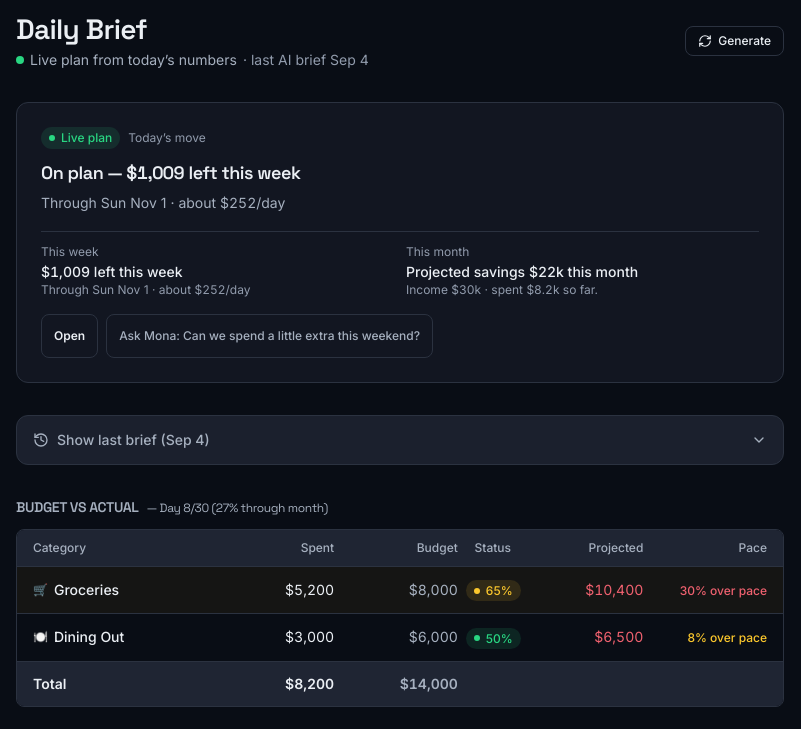
Scenario: Daily Brief › keeps the old brief behind “Show last brief”
The width and height of the screenshot is (801, 729).
Click the button "Show last brief (Sep 4)". click: x=133, y=439
box: top-left (17, 416), bottom-right (783, 464)
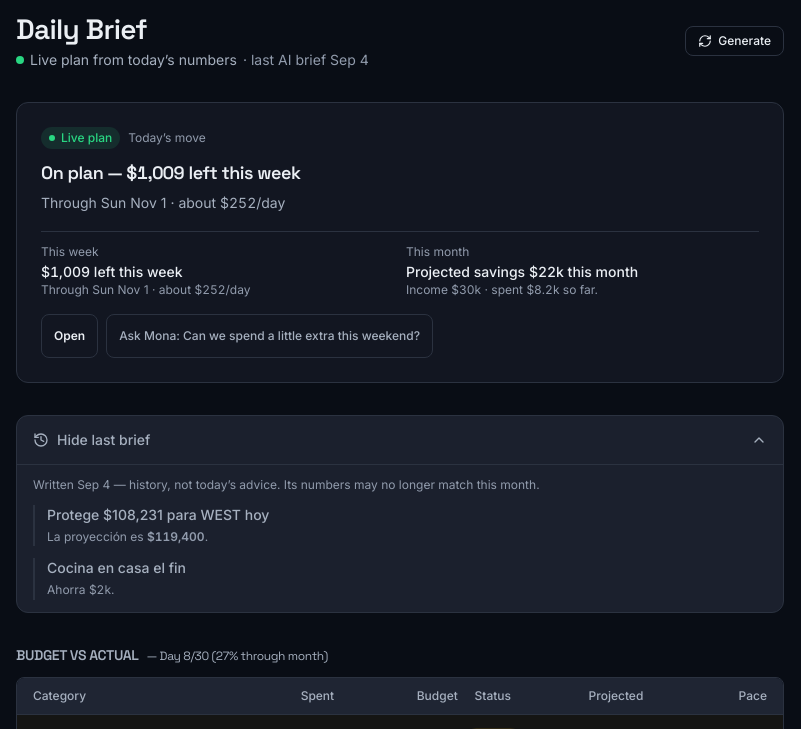
Expected: the text "Protege $108,231 para WEST hoy" is shown, top-left (47, 506), bottom-right (269, 522)
Expected: the text "$119,400" is shown, top-left (147, 528), bottom-right (205, 544)
Expected: the text "may no longer match this month" is shown, top-left (110, 476), bottom-right (540, 492)
